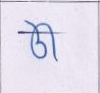i_matra: (40, 21, 62, 62)
